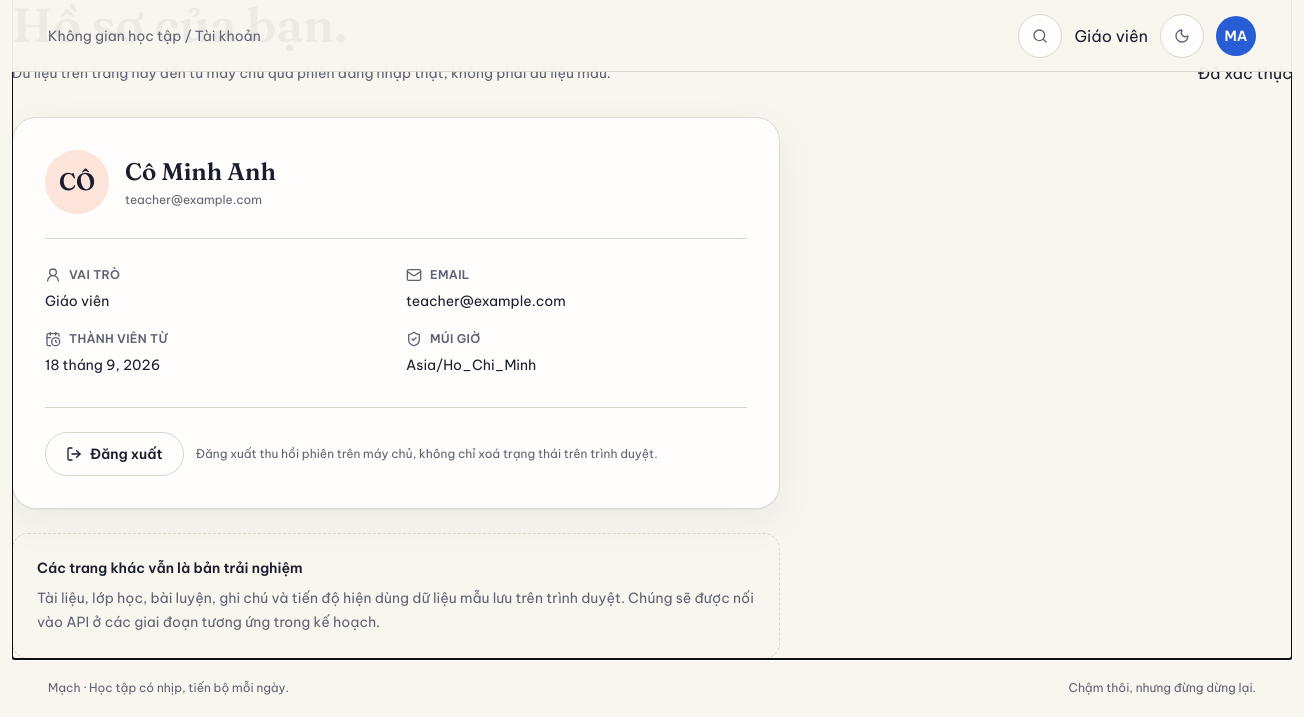
it: auth UI › keeps the account visible and explains a failed server logout
This screenshot has width=1304, height=717.
(page scrolled)
Click the button "Đăng xuất". click: [114, 454]
box: 45,432 -> 184,476
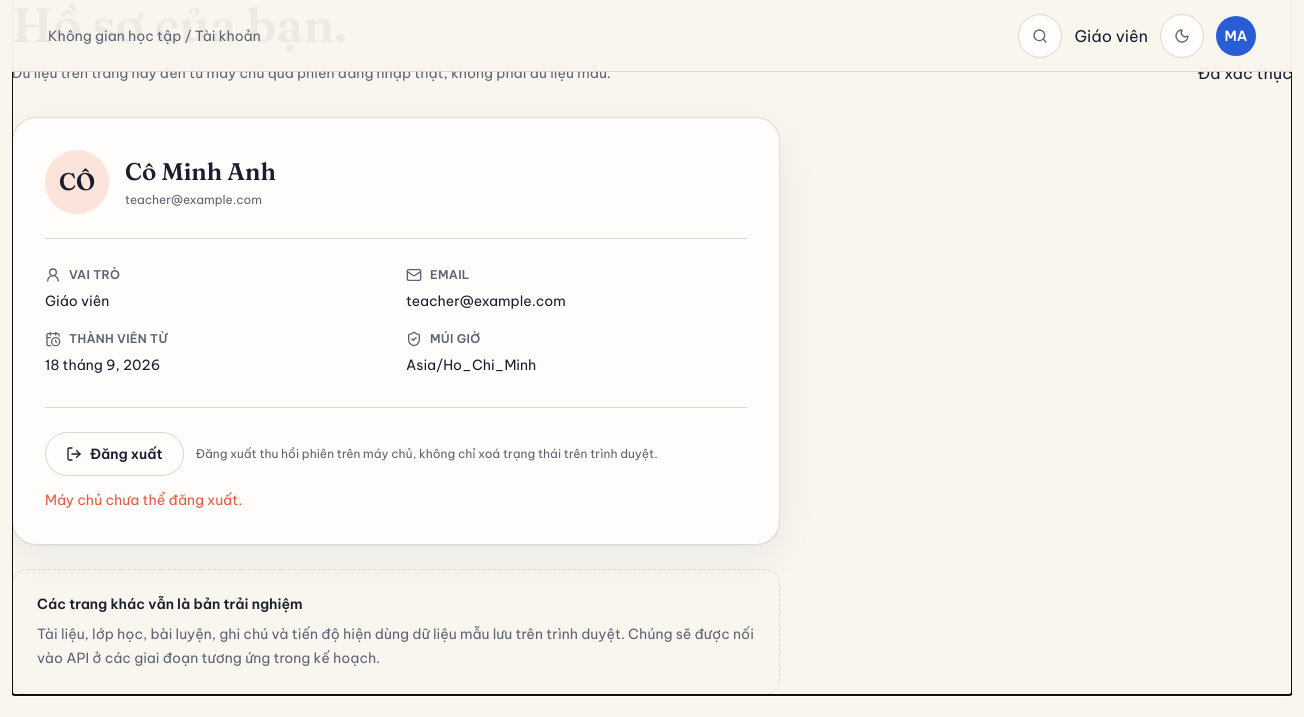
Result: the message shows "Máy chủ chưa thể đăng xuất" at 45,491 -> 242,509
